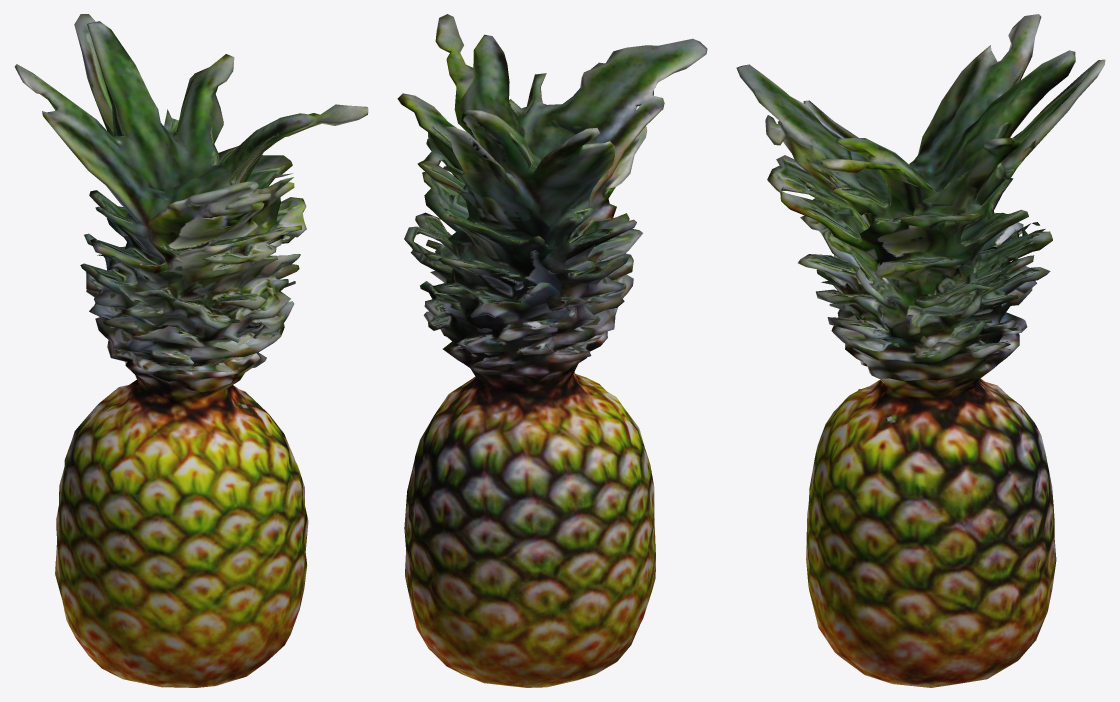
The model's file is Pina.fbx.
3 views of the same model, side by side, from view 1: azimuth 30°, elevation 25°; view 2: azimuth 150°, elevation 25°; view 3: azimuth 270°, elevation 25° (orthographic). The views are drawn at different scales.
Visible parts, largest first — view 1: mesh; view 2: mesh; view 3: mesh.
Boxes of the visible parts, x1=… form: mesh: x1=14, y1=14, x2=368, y2=687; mesh: x1=397, y1=14, x2=707, y2=687; mesh: x1=736, y1=14, x2=1105, y2=687.
Bounding box in the file's own units: 44.97 × 100 × 56.67.
